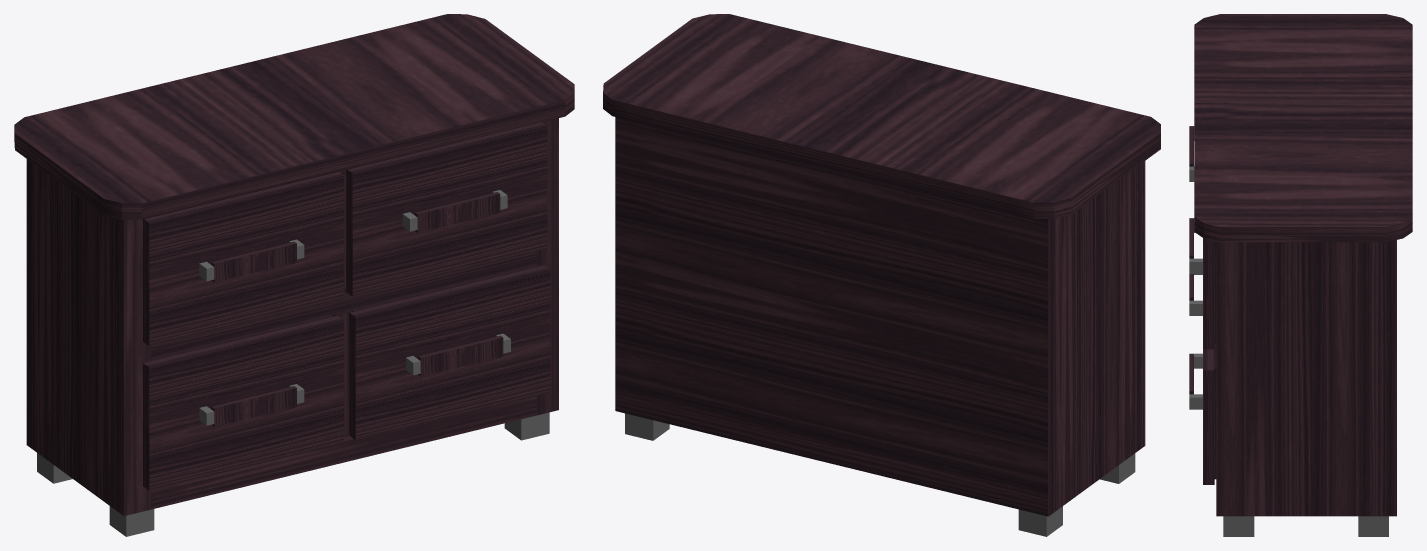
File: dresser.fbx
The picture shows the model from 3 angles, left to right: view 1: azimuth 30°, elevation 25°; view 2: azimuth 150°, elevation 25°; view 3: azimuth 270°, elevation 25°; orthographic projection. The views are drawn at different scales.
Parts seen in each view (by area): view 1: dresser_base1; view 2: dresser_base1; view 3: dresser_base1.
Boxes of the visible parts, bbox=[...] form: dresser_base1: bbox=[14, 14, 574, 536]; dresser_base1: bbox=[603, 14, 1160, 536]; dresser_base1: bbox=[1189, 14, 1412, 536].
Size of the model in its own units: 1.68 by 1.18 by 0.7433.
